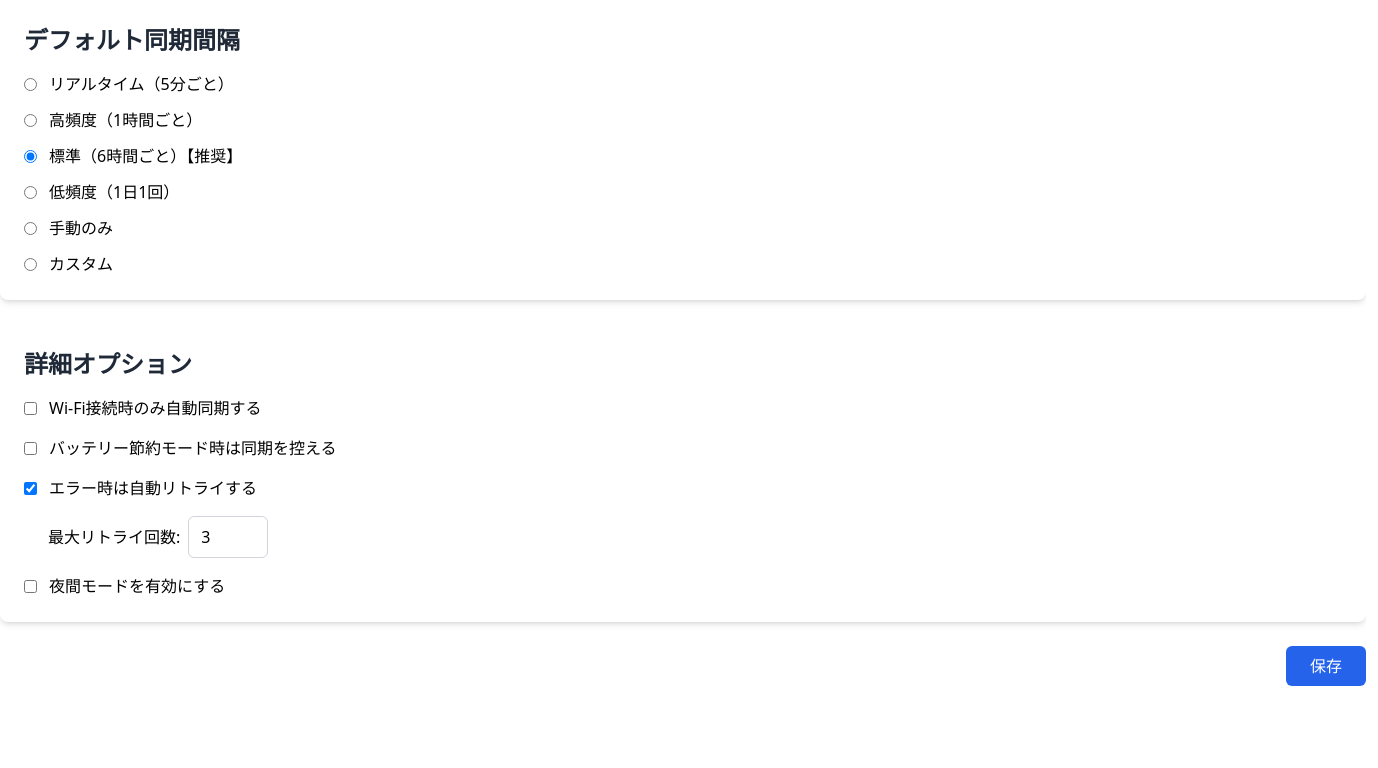
Test: GlobalSettingsTab › 設定を保存できる
expect the heading "デフォルト同期間隔" is shown: met, box [24, 23, 240, 56]
Click the radio button labelled "高頻度（1時間ごと）" at x=30, y=120, box [24, 114, 37, 126]
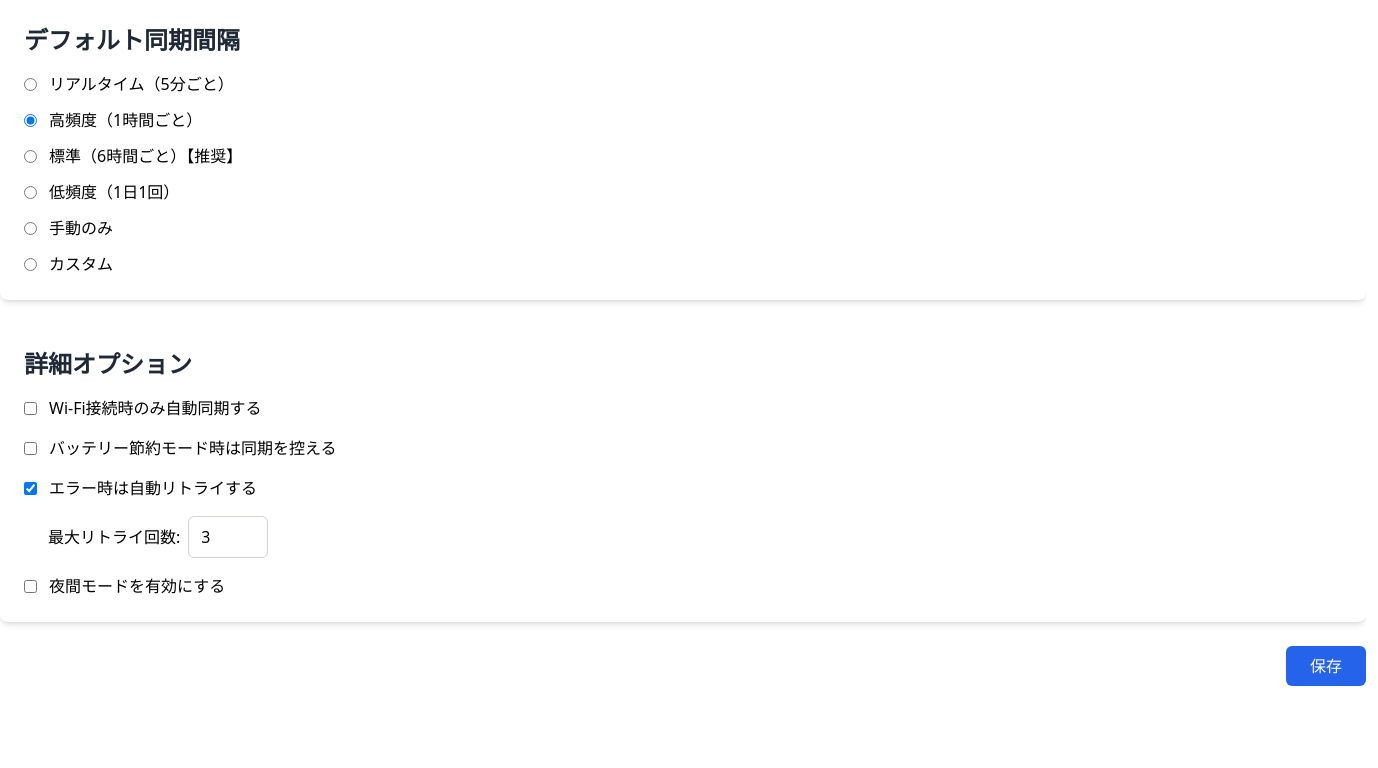
# Wi-Fiのみ同期を有効化
Click the checkbox labelled "Wi-Fi接続時のみ自動同期する" at x=30, y=408, box [24, 402, 37, 414]
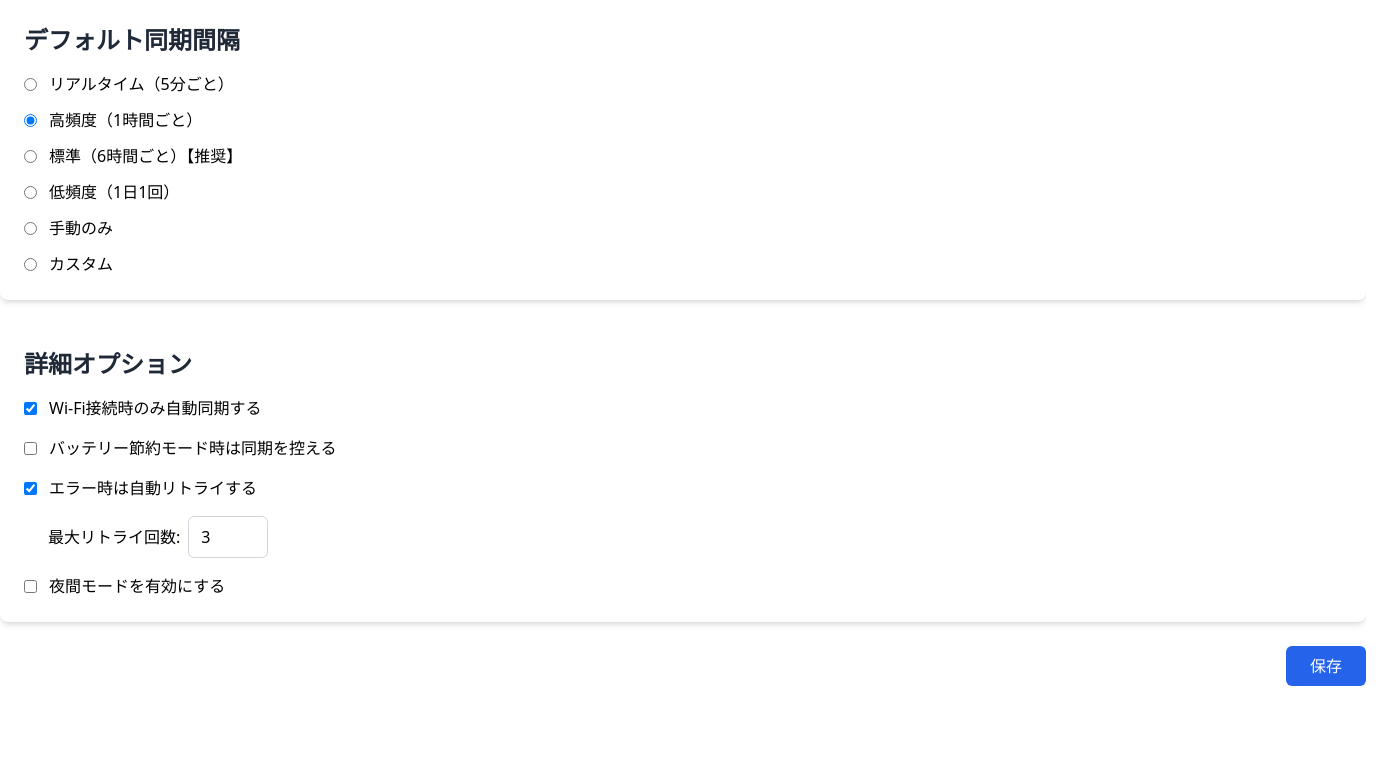
# 保存ボタンをクリック
Click the button "保存" at x=1326, y=666, box [1286, 646, 1366, 686]
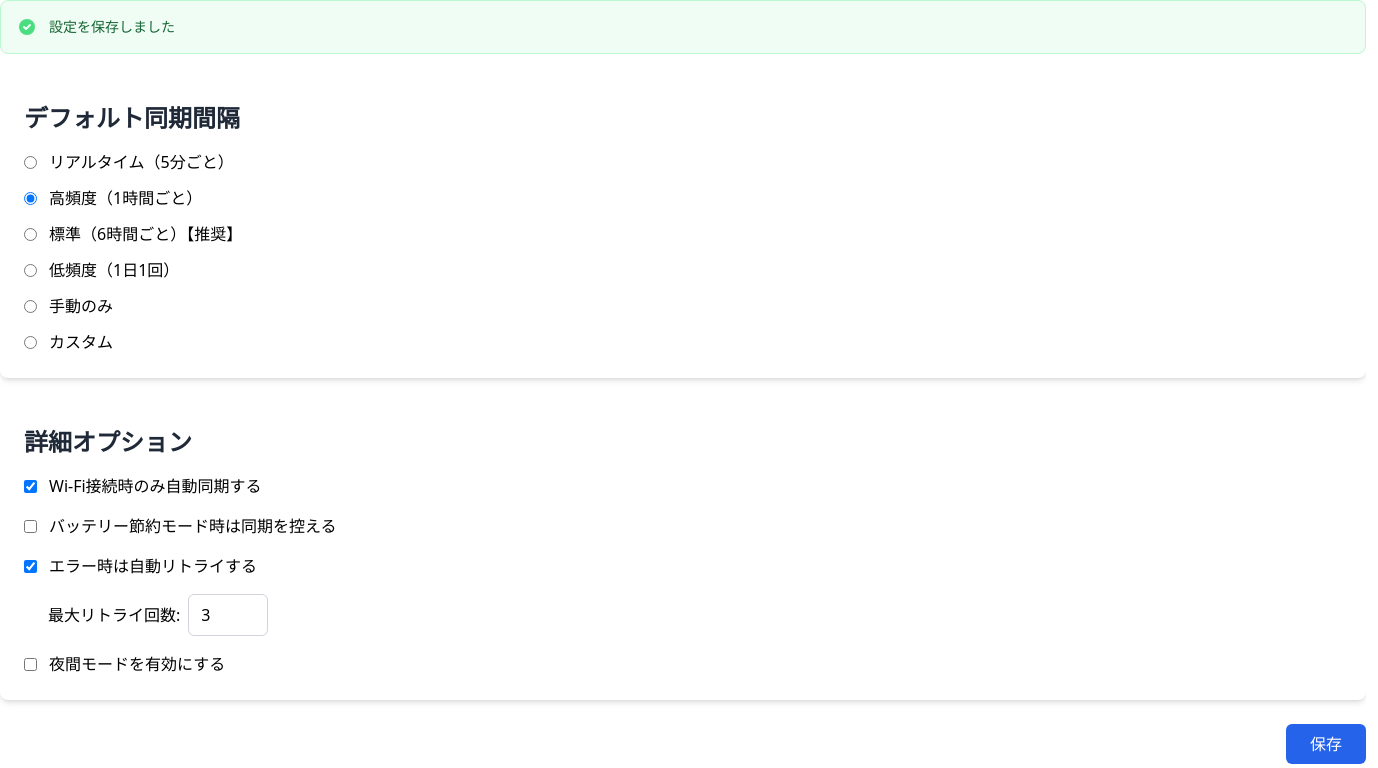
expect the text "設定を保存しました" is shown: met, box [49, 17, 175, 37]
